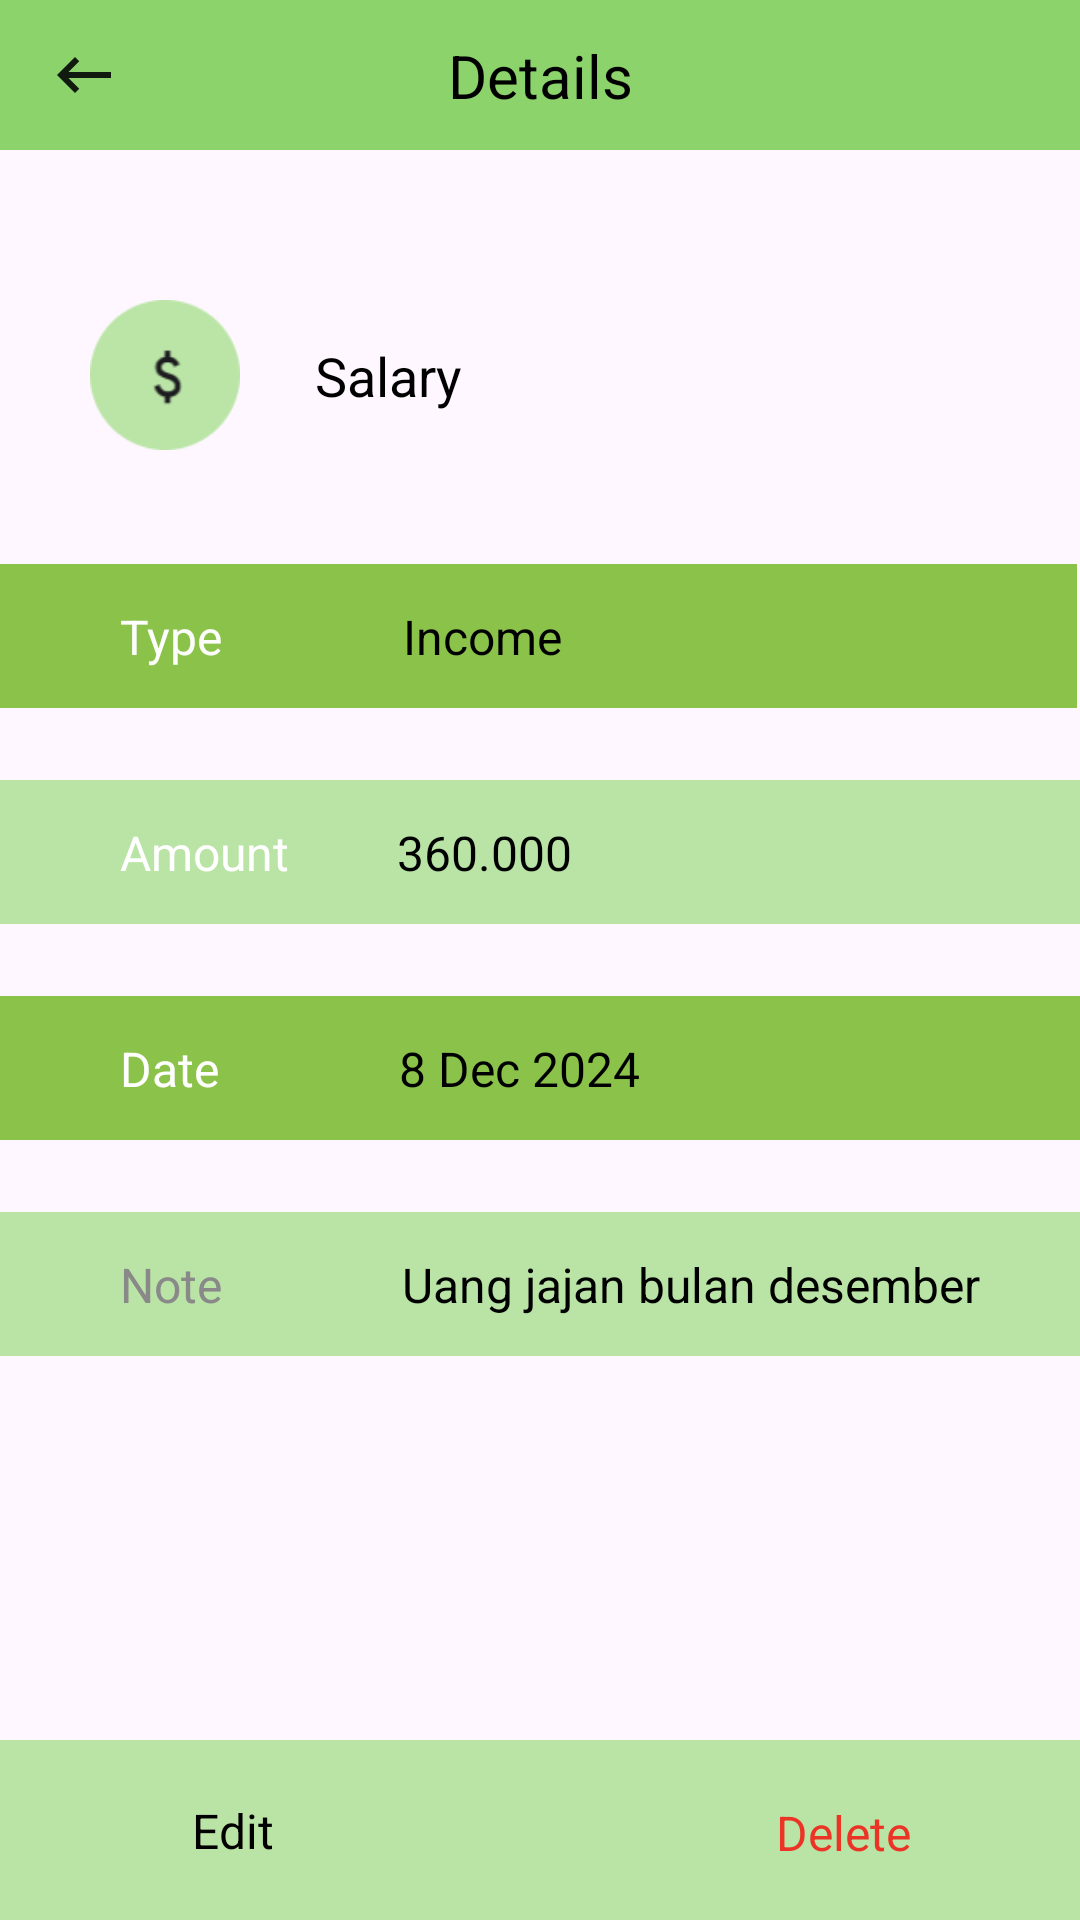

Named icons in this screenshot (1080 × 1920) and their bounding boxes, box=[x1, y1, x2, y2]:
keyboard backspace: box=[57, 57, 111, 93]
